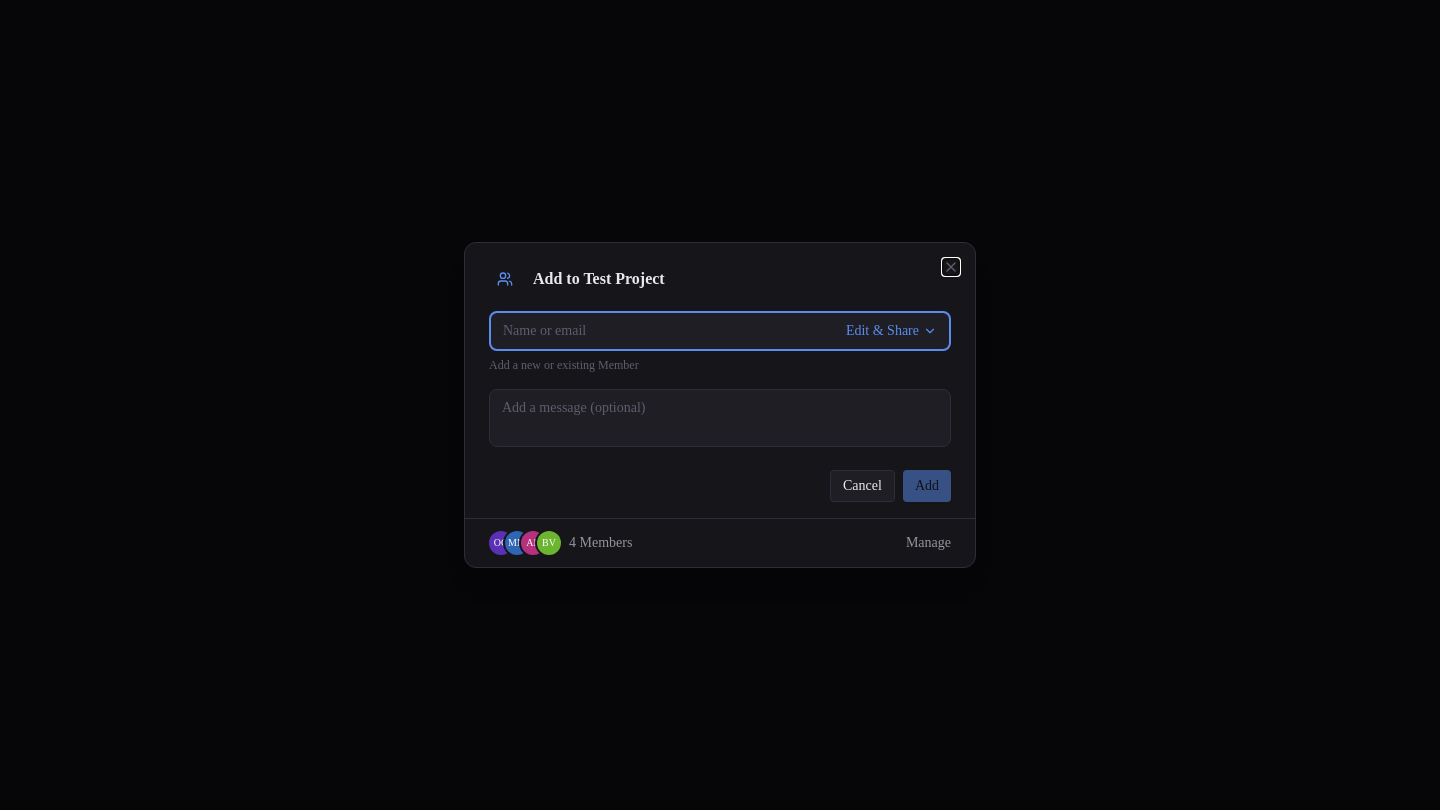
it: bulk actions › keeps only the failures selected, so a retry does not repeat successes
Expected: the field with placeholder "Name or email" is shown, left=503, top=321, right=838, bottom=341
Step 1. Click the button "Manage" → (928, 543), box left=906, top=533, right=951, bottom=553
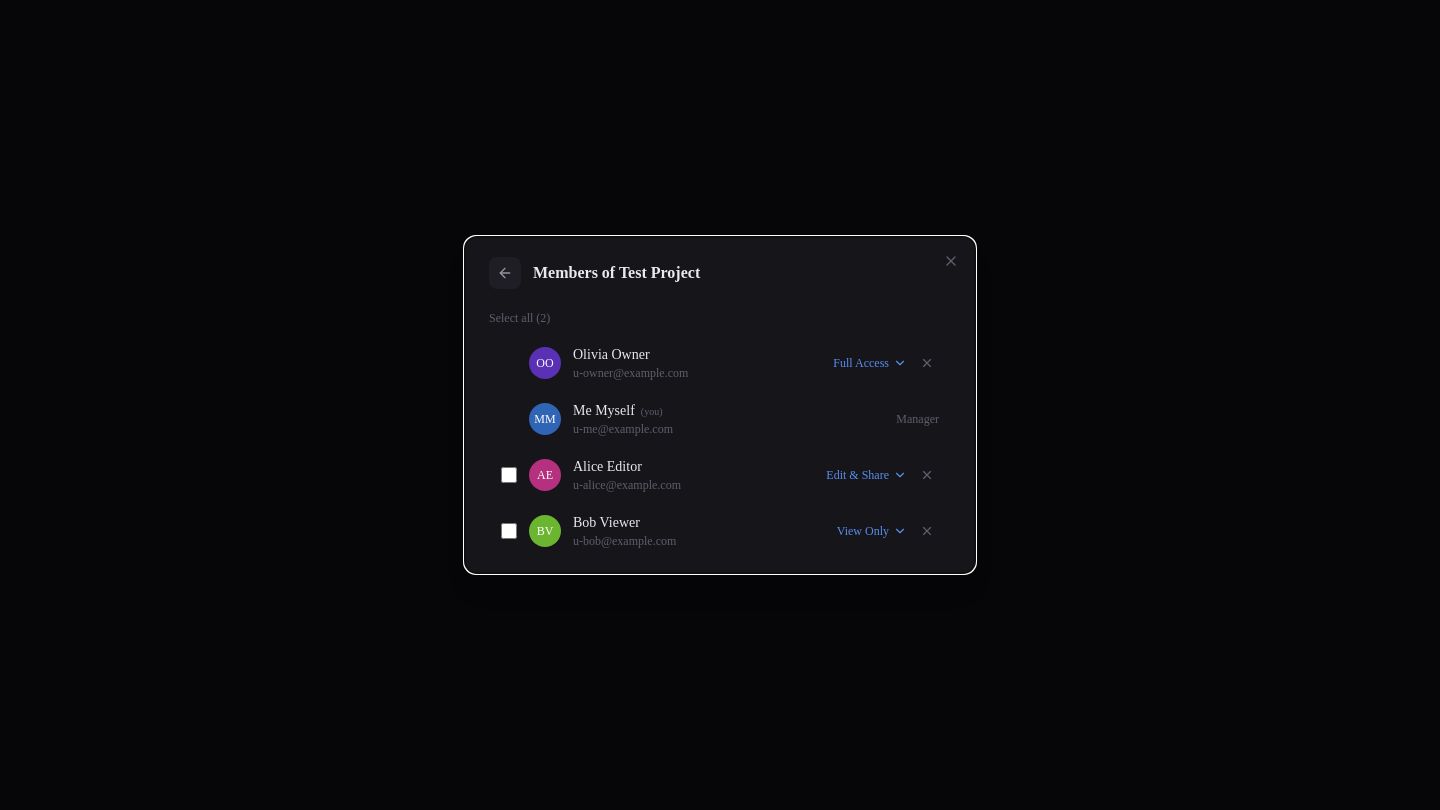
Step 2. Click the checkbox named "Select Alice Editor" → (509, 475), box left=501, top=467, right=517, bottom=483
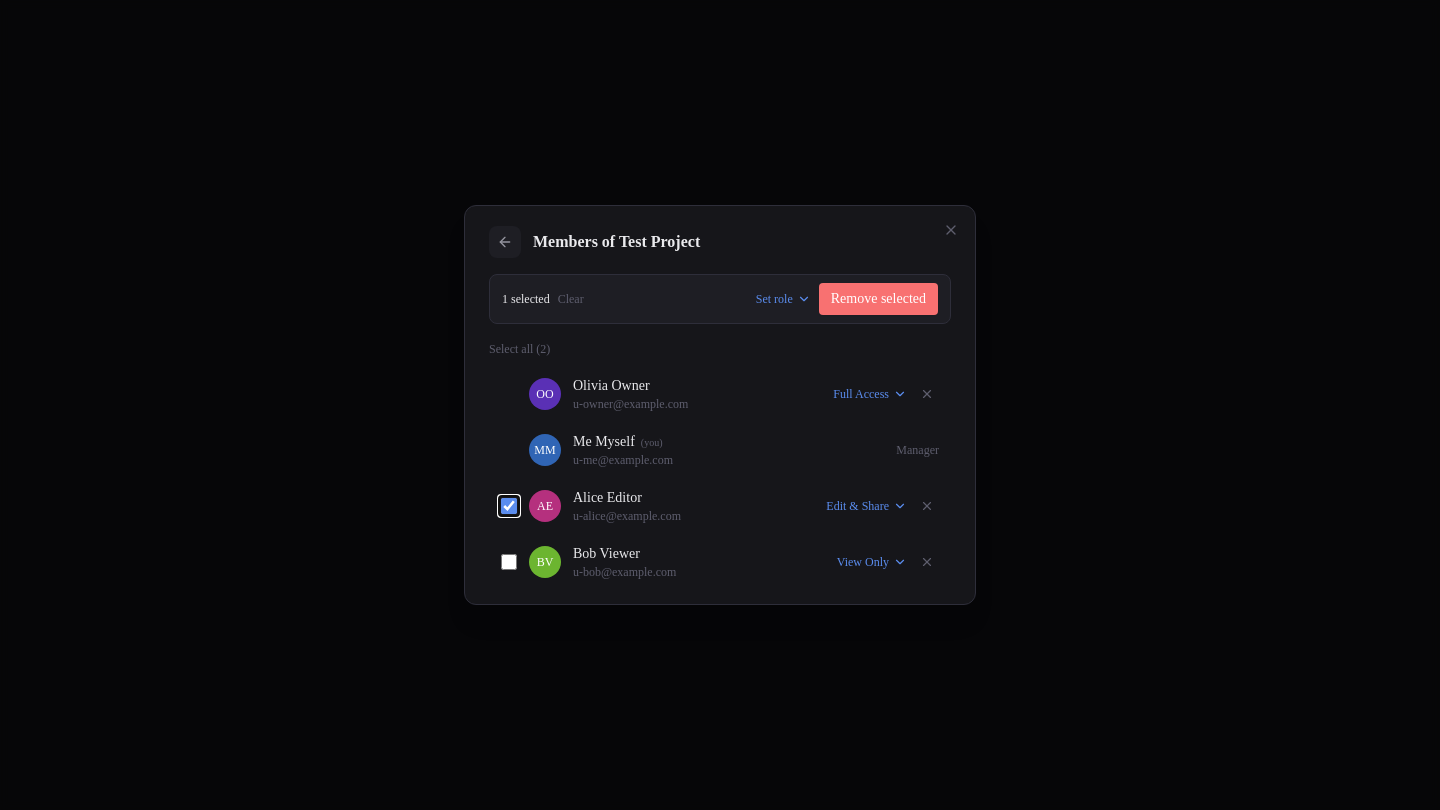
Step 3. Click the checkbox named "Select Bob Viewer" → (509, 562), box left=501, top=554, right=517, bottom=570
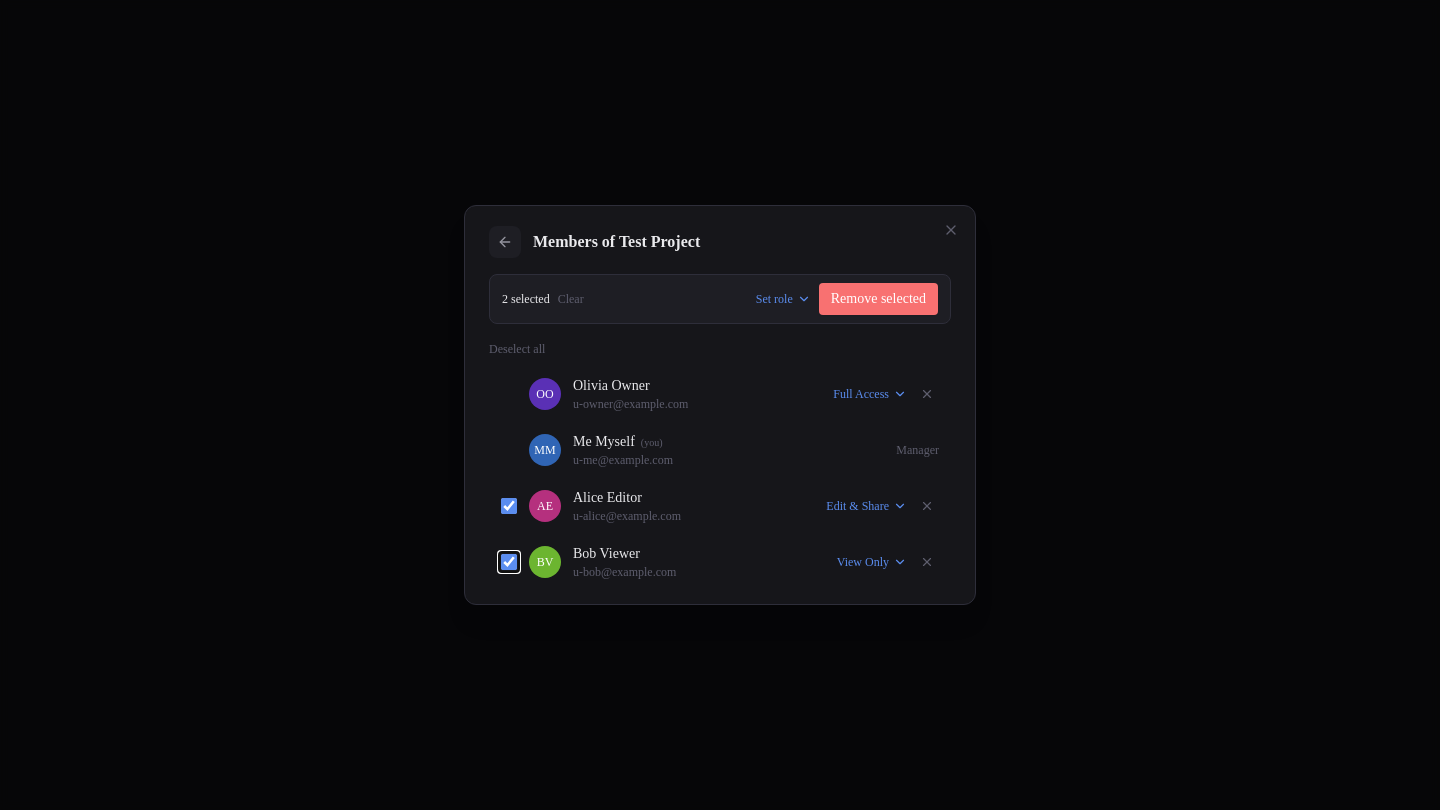
Expected: the text "2 selected" is shown, left=502, top=291, right=550, bottom=307
Step 4. Click the button "Remove selected" → (878, 299), box left=819, top=283, right=938, bottom=315
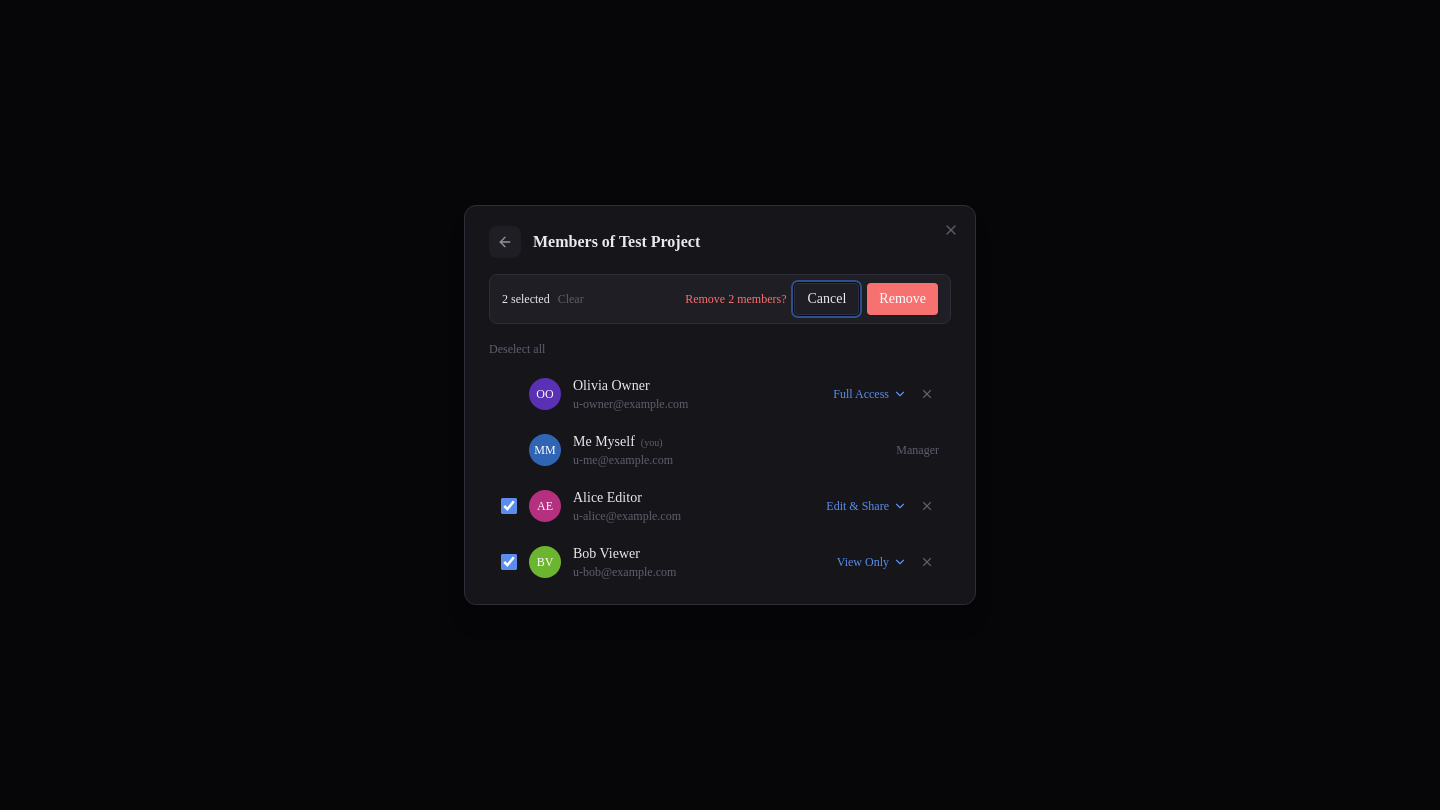
Step 5. Click the button "Remove" → (903, 299), box left=867, top=283, right=938, bottom=315
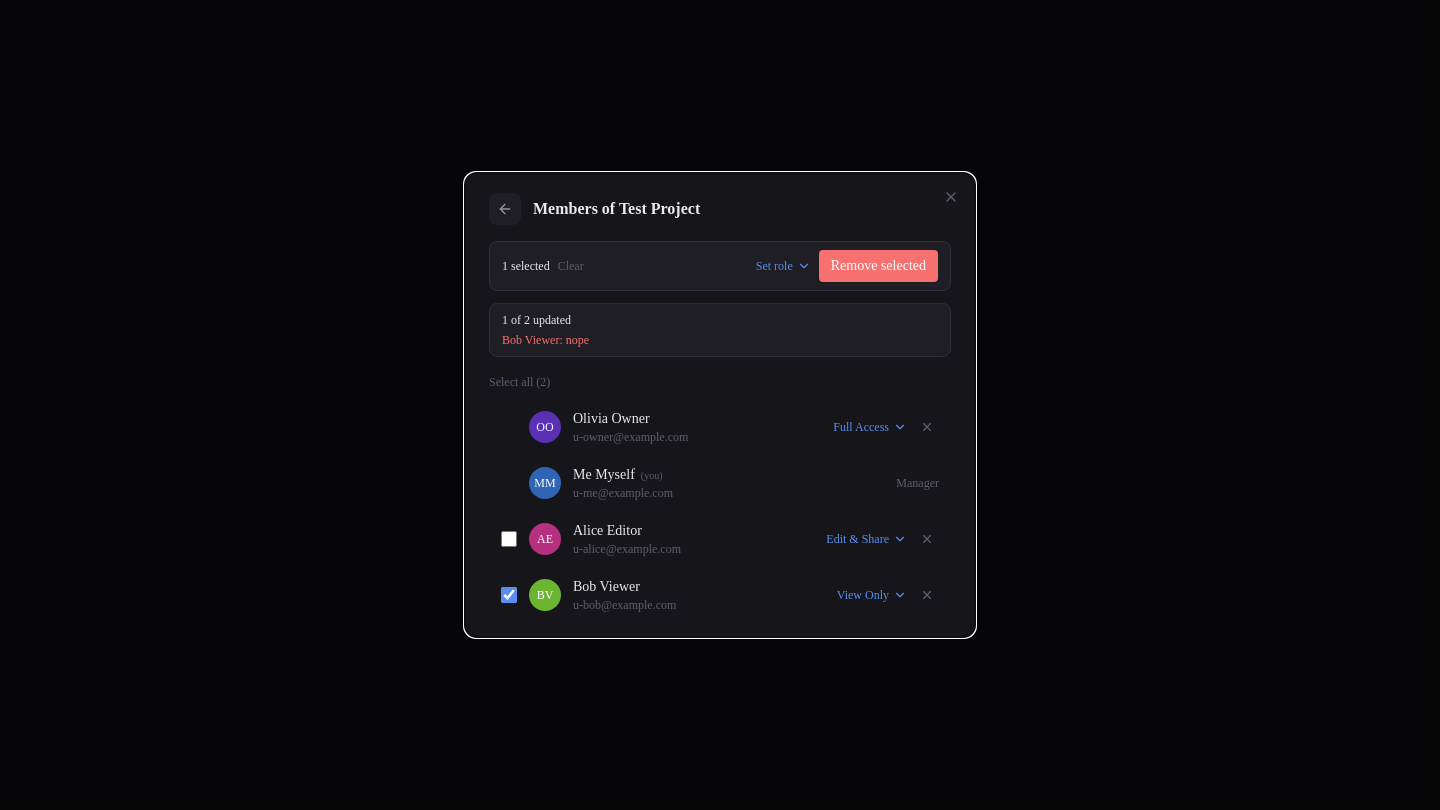
Expected: the text "1 selected" is shown, left=502, top=258, right=550, bottom=274
